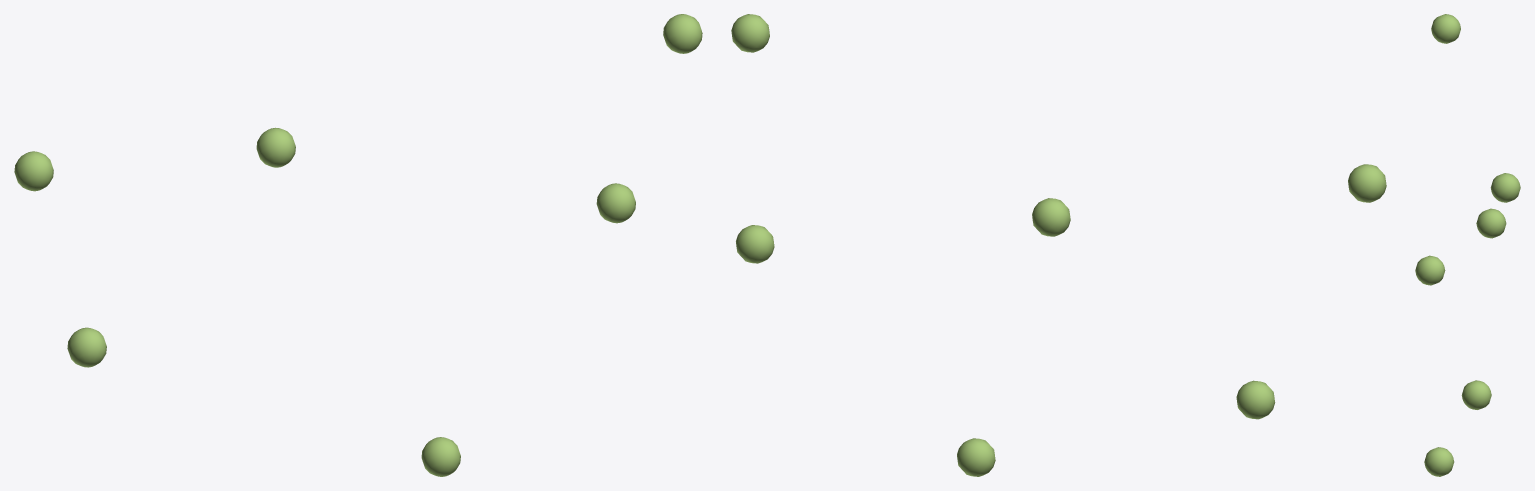
The model's file is postvesical-nodes.glb.
3 views of the same model, side by side, from view 1: azimuth 30°, elevation 25°; view 2: azimuth 150°, elevation 25°; view 3: azimuth 270°, elevation 25° (orthographic). The views are drawn at different scales.
Visible parts, largest first — view 1: Postvesical nodes; view 2: Postvesical nodes; view 3: Postvesical nodes.
Part boxes in pixels (<box>): Postvesical nodes: <box>14,14,702,476</box>; Postvesical nodes: <box>731,14,1386,476</box>; Postvesical nodes: <box>1415,14,1520,476</box>.
Bounding box in the file's own units: 0.0504 × 0.0299 × 0.00913.
